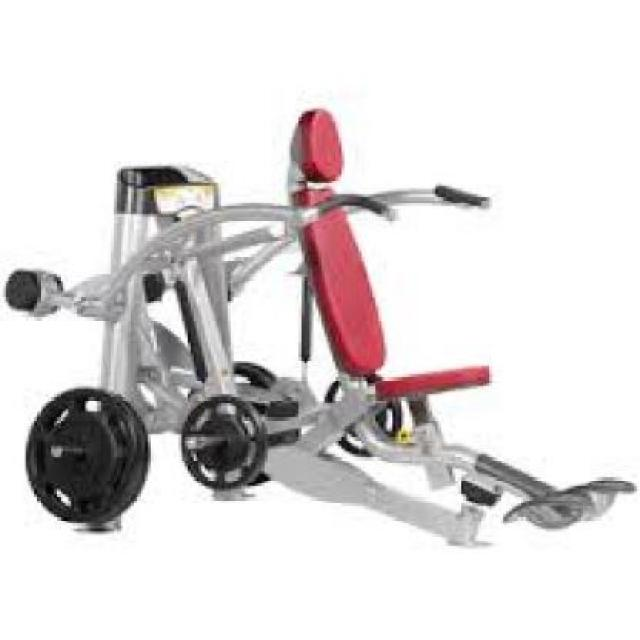seated dip machine: (1, 104, 640, 567)
